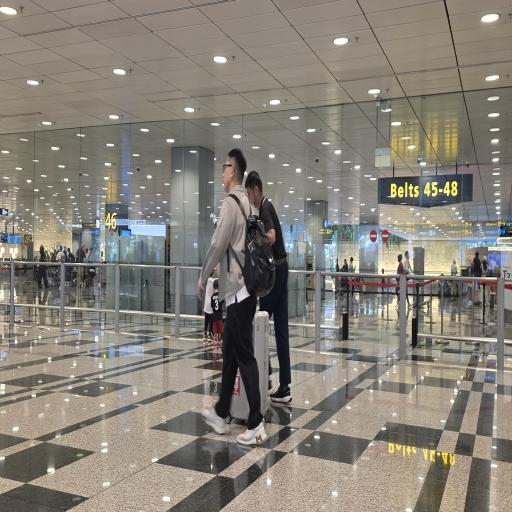person_left: (246, 172, 294, 390)
person_with_luggage_left: (208, 132, 265, 432)
